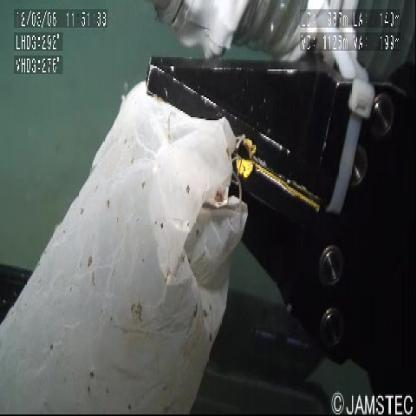Rov: (1, 230, 333, 414)
